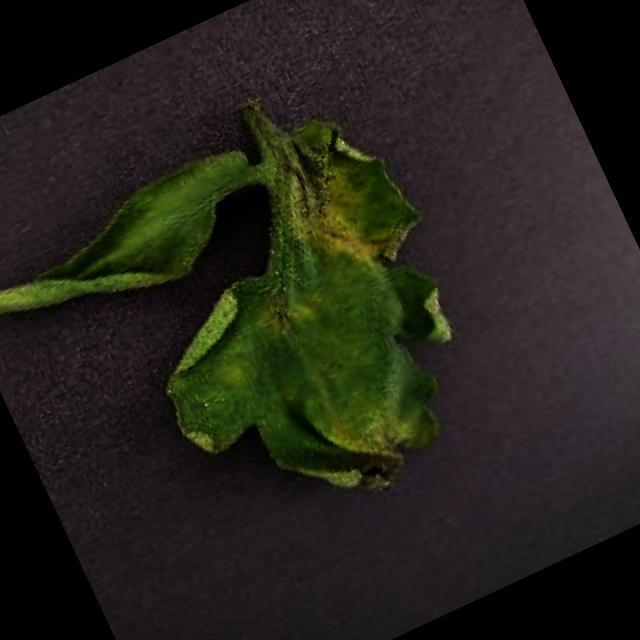Tomato late blight leaf: (76, 80, 524, 562), (0, 137, 282, 364)
